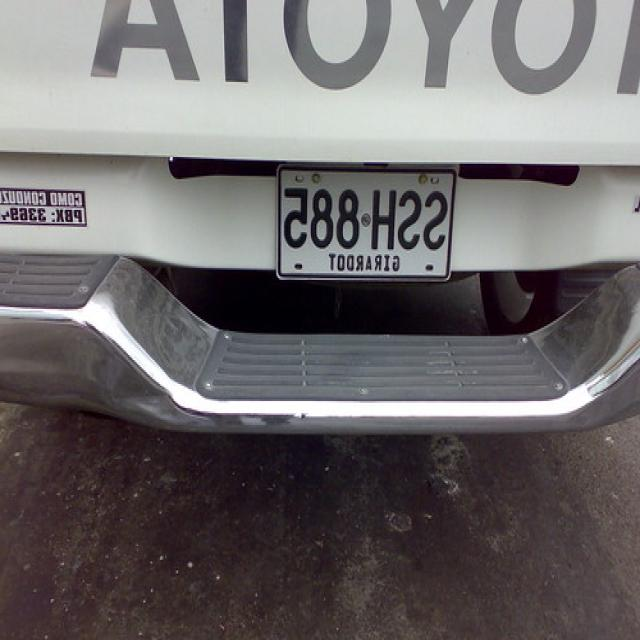placas: (277, 162, 453, 252)
